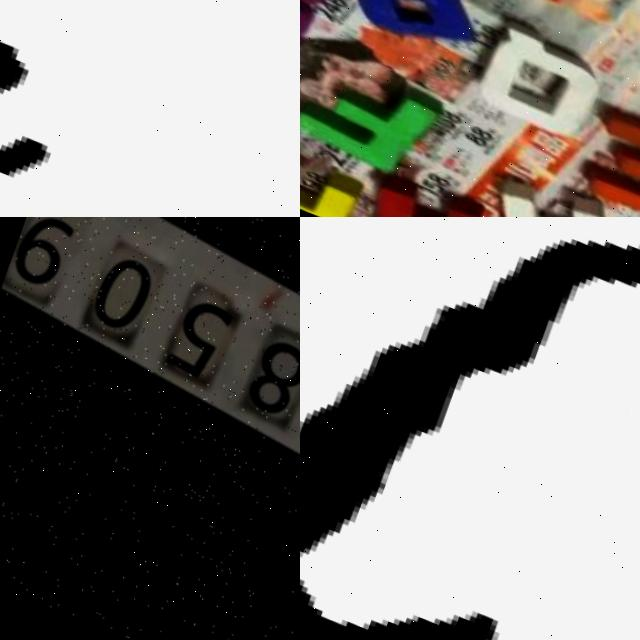0: (71, 231, 180, 359)
3: (0, 0, 300, 217)
5: (149, 273, 260, 404)
7: (300, 217, 640, 640)
8: (225, 312, 300, 440)
9: (0, 217, 104, 322)
A: (365, 170, 497, 217)
B: (318, 0, 492, 57)
E: (577, 98, 640, 217)
F: (300, 43, 444, 179)
H: (476, 165, 633, 217)
Q: (472, 13, 602, 137)
